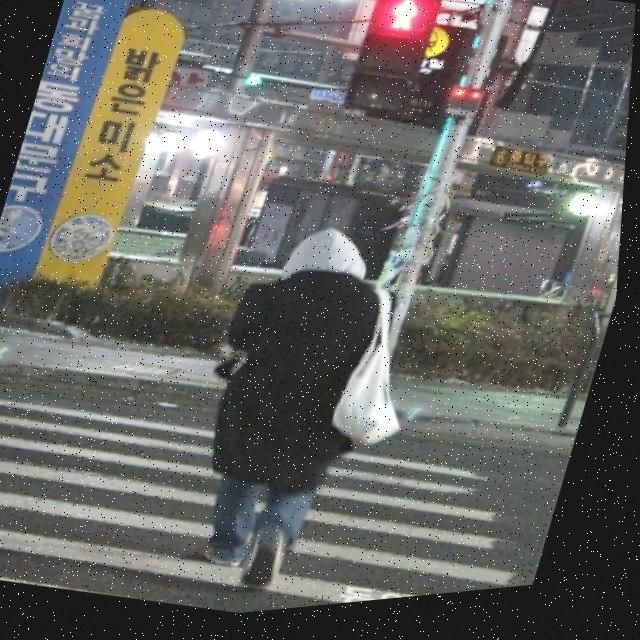red_light: (371, 0, 438, 51)
